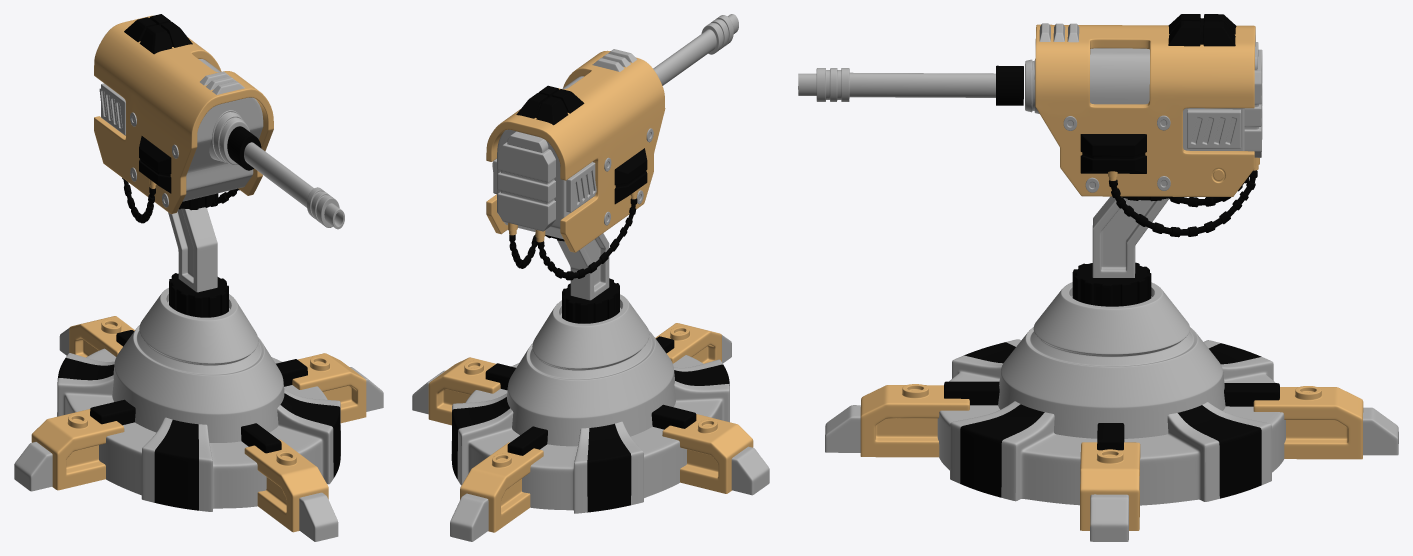
File: laser_tower.glb
3 renders of one model, left to right at view 1: azimuth 30°, elevation 25°; view 2: azimuth 150°, elevation 25°; view 3: azimuth 270°, elevation 25°, orthographic. The views are drawn at different scales.
Visible parts, largest first — view 1: Legs_high, Base_high, Top_Base_high, Cover_high, Barel_high, Body_high, Neck_high, Gear_Bottom_high, Decor_002_high, Decor_000_high, Decor_001_high, Cable_high; view 2: Legs_high, Base_high, Top_Base_high, Cover_high, Power_high, Barel_high, Neck_high, Gear_Bottom_high, Cable_high, Decor_002_high, Body_high, Decor_001_high (+1 smaller); view 3: Base_high, Cover_high, Top_Base_high, Legs_high, Barel_high, Body_high, Neck_high, Decor_000_high, Gear_Bottom_high, Decor_001_high, Cable_high, Decor_002_high (+1 smaller).
Boxes of the visible parts, x1,y1,x2,y2 form: Legs_high: (14, 316, 383, 541); Base_high: (57, 348, 340, 511); Top_Base_high: (112, 288, 284, 442); Cover_high: (94, 15, 273, 214); Barel_high: (209, 110, 344, 229); Body_high: (125, 59, 263, 201); Neck_high: (168, 207, 217, 292); Gear_Bottom_high: (169, 273, 228, 317); Decor_002_high: (124, 14, 192, 54); Decor_000_high: (139, 136, 171, 193); Decor_001_high: (99, 83, 125, 135); Cable_high: (122, 178, 239, 223); Legs_high: (412, 323, 769, 541); Base_high: (451, 355, 729, 513); Top_Base_high: (507, 294, 675, 446); Cover_high: (486, 49, 665, 252); Power_high: (497, 131, 555, 231); Barel_high: (653, 14, 738, 85); Neck_high: (557, 233, 609, 300); Gear_Bottom_high: (562, 278, 619, 323); Cable_high: (509, 198, 637, 280); Decor_002_high: (516, 85, 584, 125); Body_high: (497, 76, 592, 239); Decor_001_high: (492, 158, 596, 212); Base_high: (937, 339, 1285, 505); Cover_high: (1035, 23, 1255, 196); Top_Base_high: (998, 282, 1225, 438); Legs_high: (825, 381, 1398, 541); Barel_high: (798, 59, 1039, 113); Body_high: (1090, 48, 1244, 150); Neck_high: (1092, 196, 1169, 277); Decor_000_high: (1080, 134, 1146, 173); Gear_Bottom_high: (1072, 262, 1151, 306); Decor_001_high: (1187, 109, 1241, 148); Cable_high: (1109, 170, 1257, 237); Decor_002_high: (1168, 14, 1236, 46).
Bounding box in the file's own units: 7.57 × 8.04 × 10.2.
